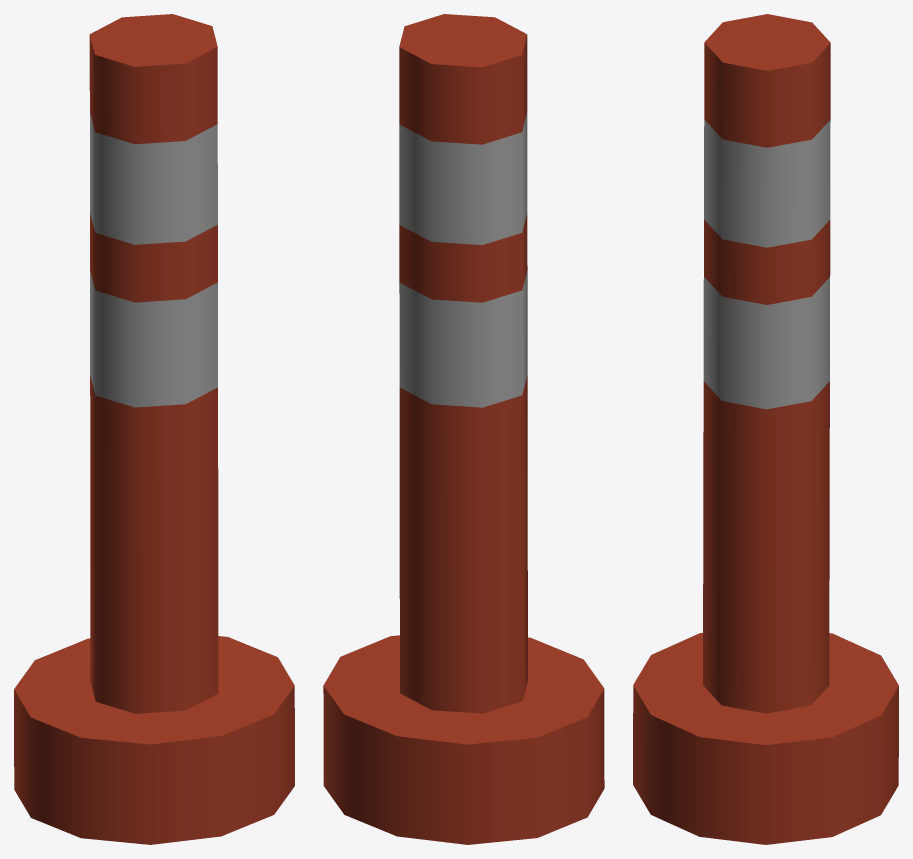
The model's file is column_01.fbx.
3 renders of one model, left to right at view 1: azimuth 30°, elevation 25°; view 2: azimuth 150°, elevation 25°; view 3: azimuth 270°, elevation 25°, orthographic.
Parts seen in each view (by area): view 1: column_01; view 2: column_01; view 3: column_01.
Part boxes in pixels (left/top/right/bottom): column_01: left=14, top=14, right=294, bottom=844; column_01: left=323, top=14, right=604, bottom=844; column_01: left=633, top=14, right=898, bottom=844.
Bounding box in the file's own units: 40.16 × 116 × 37.66.
